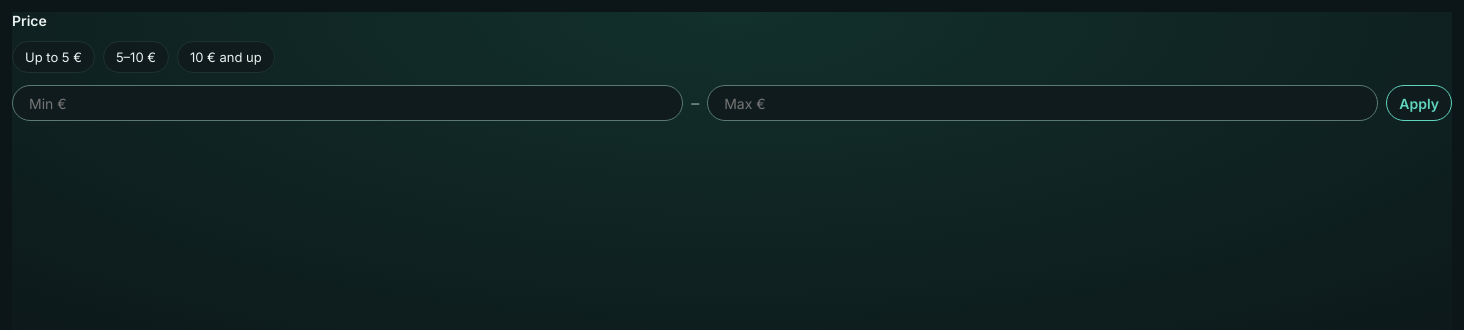
PriceFilter › blocks a minimum above the maximum
Type "20" into the number field named "Minimum price" at (348, 103), box top-left (12, 85), bottom-right (683, 121)
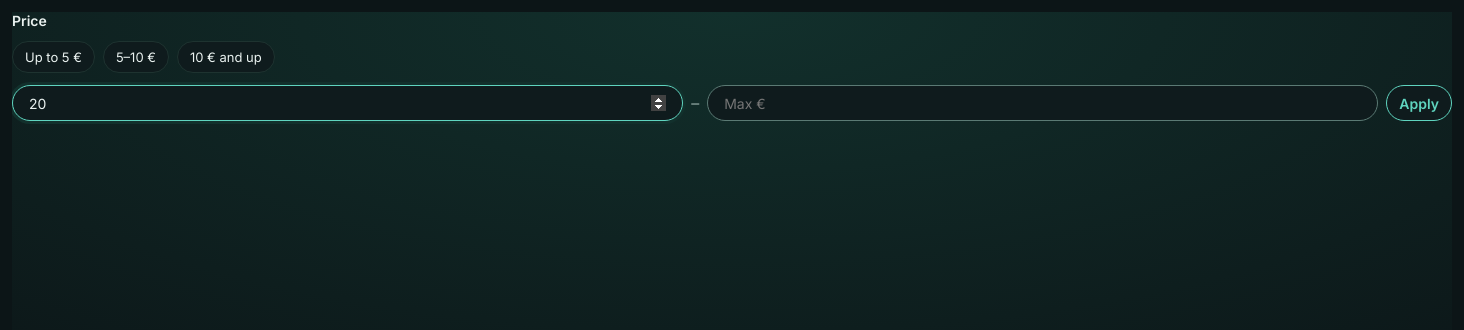
Type "5" into the number field named "Maximum price" at (1043, 103), box top-left (707, 85), bottom-right (1378, 121)
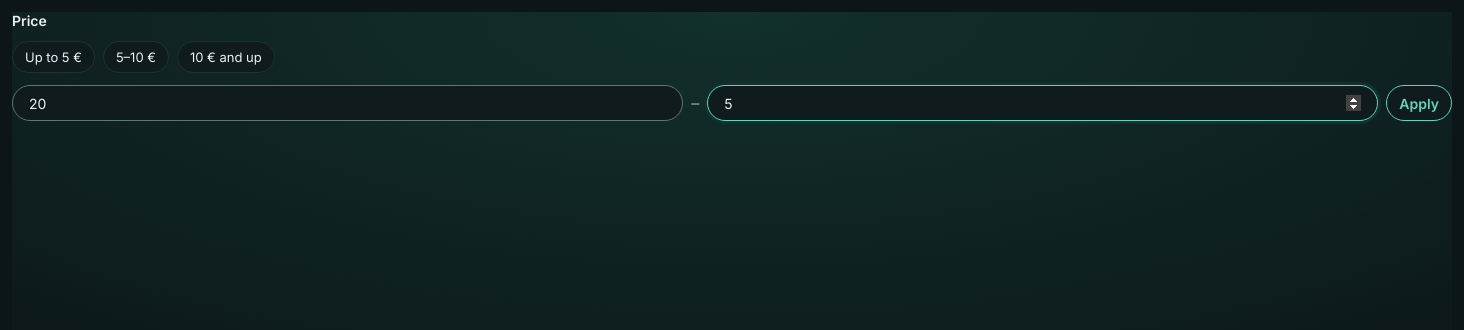
Click the button "Apply" at (1419, 103), box top-left (1386, 85), bottom-right (1452, 121)
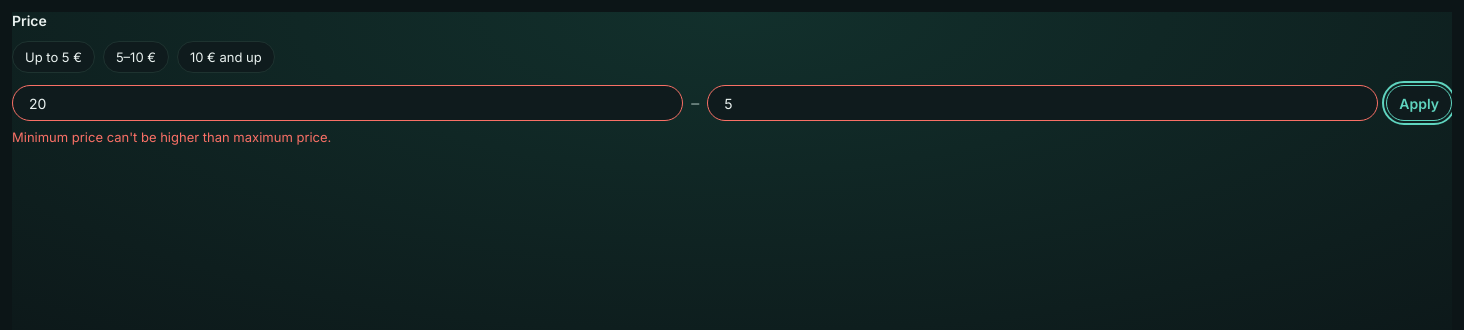
Now the message shows "Minimum price", box top-left (12, 129), bottom-right (331, 145)
